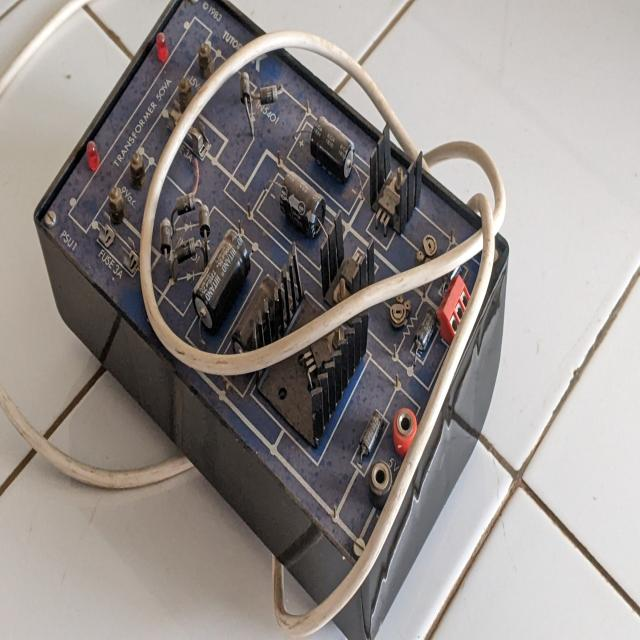Tutor Kit of Electronics: (26, 13, 518, 621)
